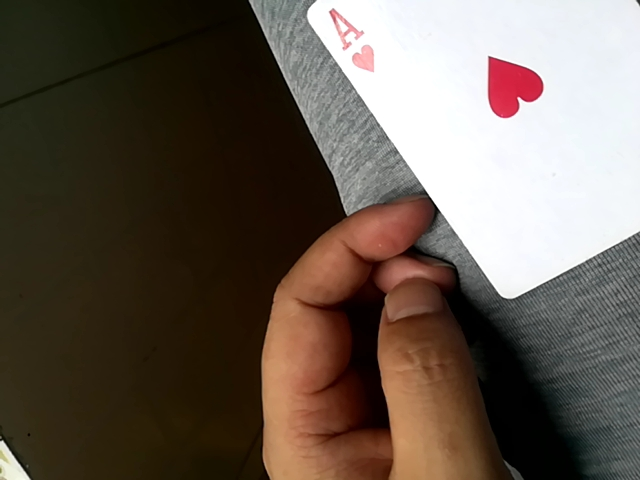hx a: (298, 0, 638, 304)
